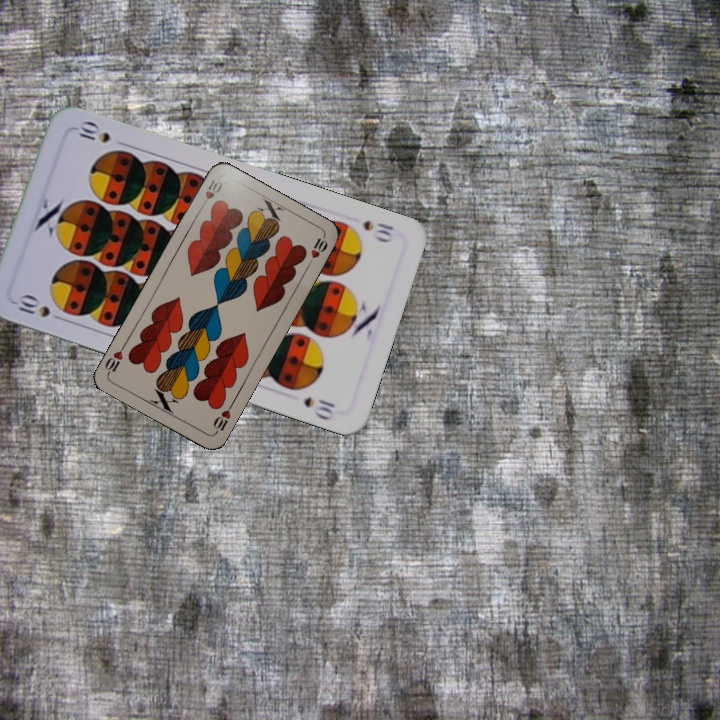H10: (197, 175, 225, 212), (209, 399, 236, 436)
S10: (11, 291, 68, 324), (359, 216, 397, 246)
